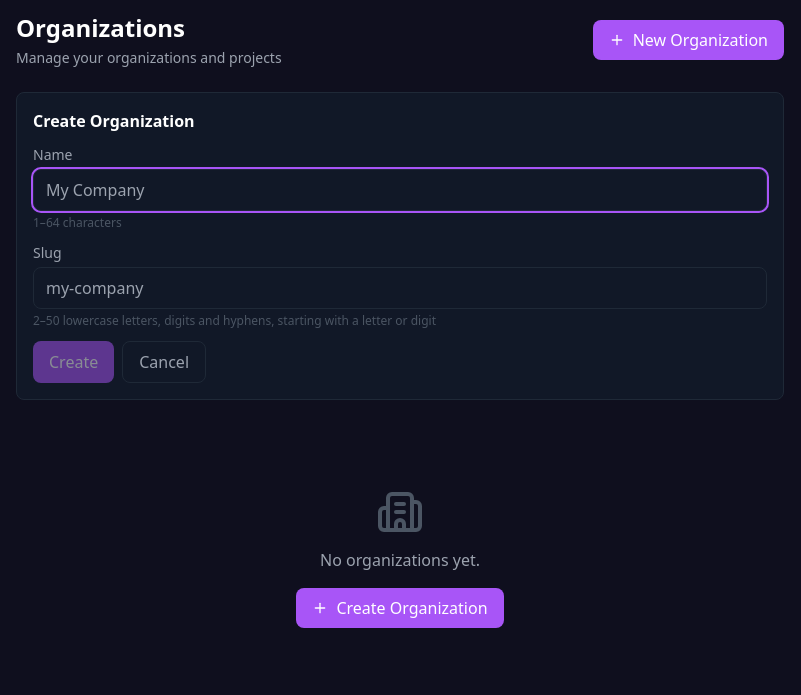
Test case: OrgsPage — create › shows the server's refusal, such as the one-free-organization cap
The image size is (801, 695).
Type "Second" into the field labelled "Name". click: (400, 190)
box: [33,169,767,211]
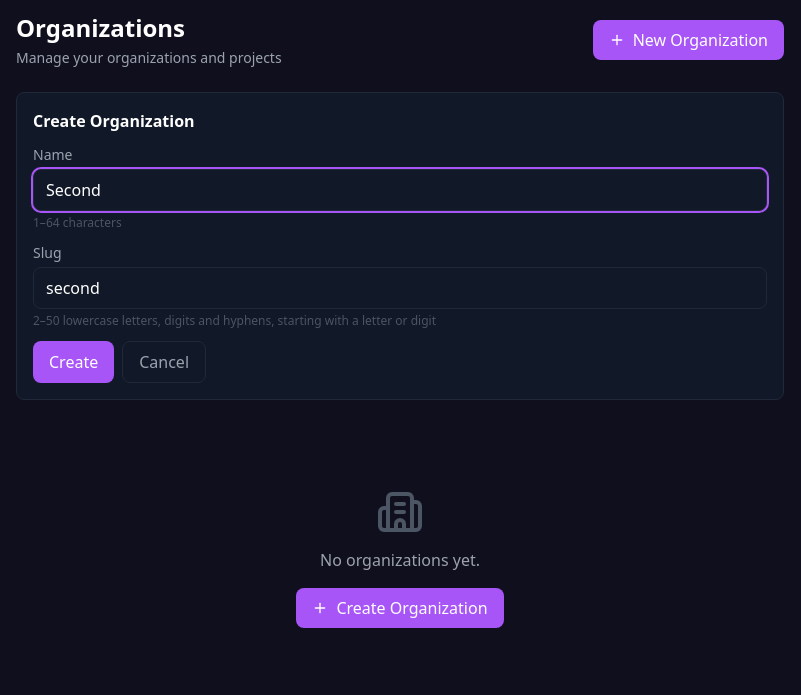
Click the button "Create". click: click(74, 362)
box: [33,341,114,383]
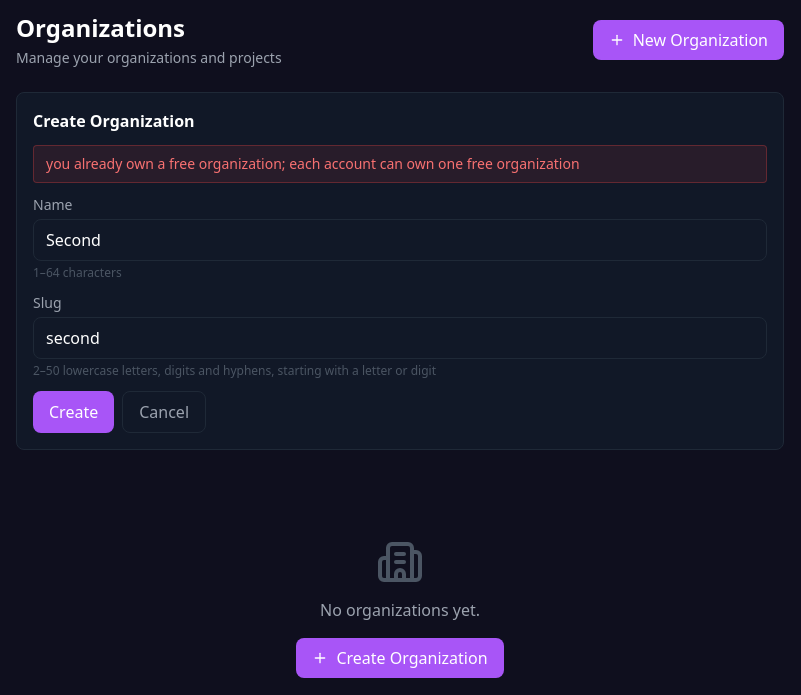
Expected: the text "each account can own one free organization" is shown, [46,154,580,173]
